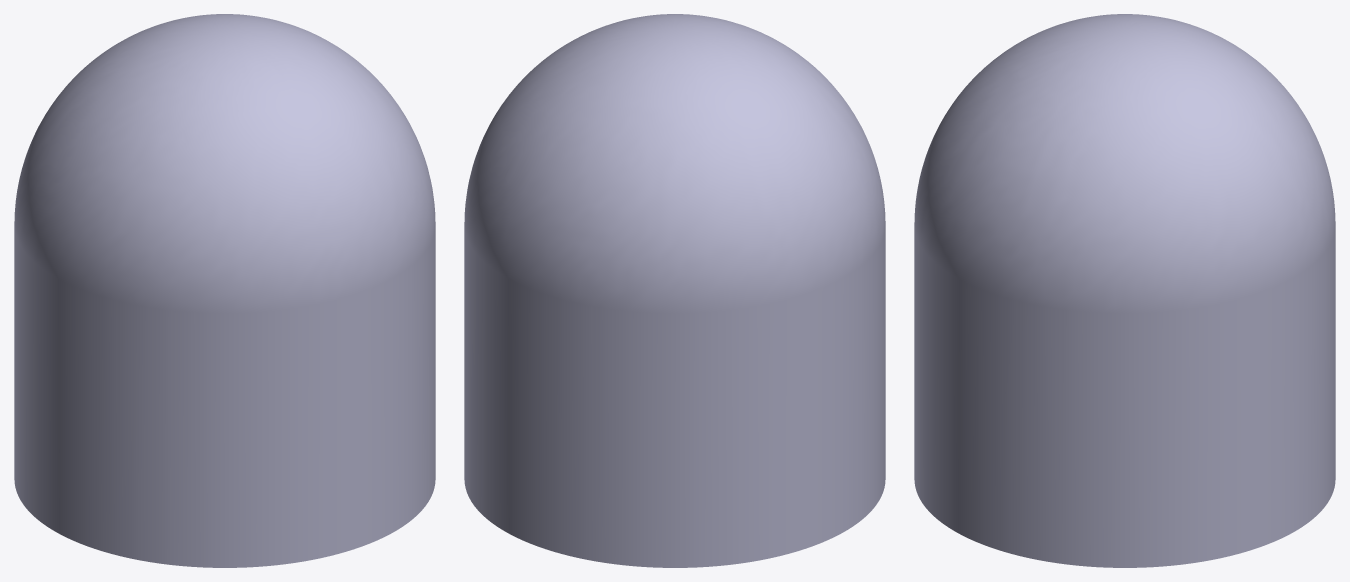
The model's file is OUTFITTING_INTERIOR__EXT. INSTRUMENTS__FWD MAST__FLIR MD-625.glb.
The picture shows the model from 3 angles, left to right: view 1: azimuth 30°, elevation 25°; view 2: azimuth 150°, elevation 25°; view 3: azimuth 270°, elevation 25°; orthographic projection.
Bounding box in the file's own units: 0.1524 × 0.1778 × 0.1524.
